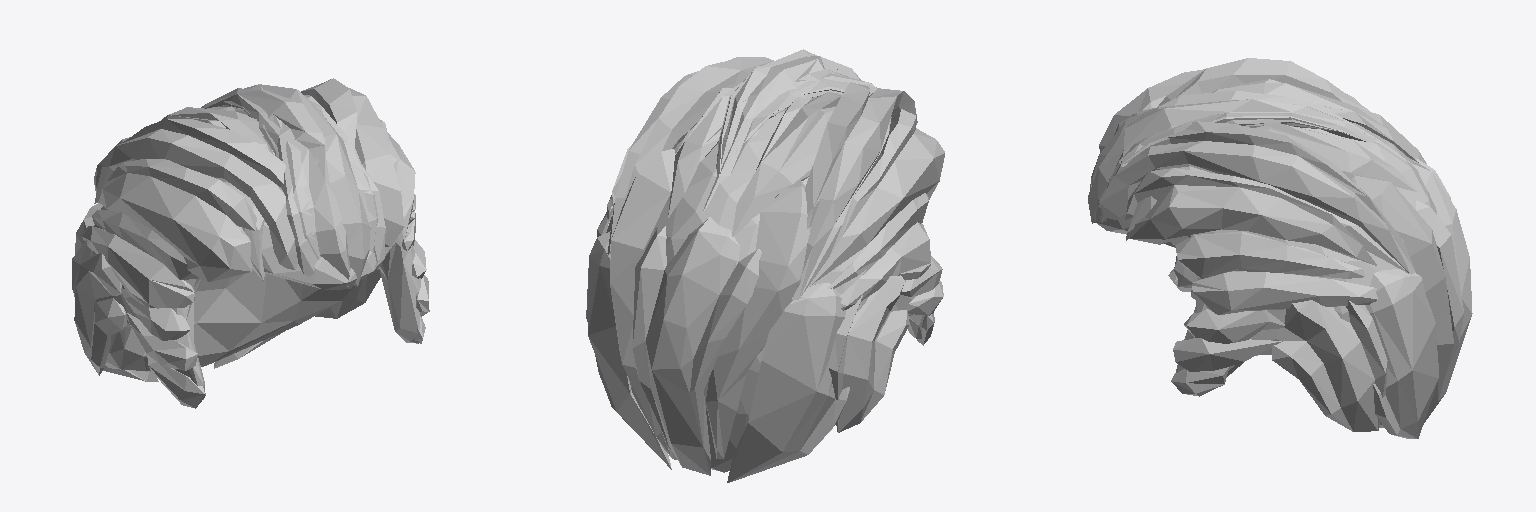
The model's file is Thug01_hair.OBJ.
3 renders of one model, left to right at view 1: azimuth 30°, elevation 25°; view 2: azimuth 150°, elevation 25°; view 3: azimuth 270°, elevation 25°, orthographic.
Parts seen in each view (by area): view 1: Group54262; view 2: Group54262; view 3: Group54262.
Boxes of the visible parts, x1,y1,x2,y2 form: Group54262: [72, 78, 429, 408]; Group54262: [586, 49, 944, 482]; Group54262: [1088, 58, 1472, 438].
Bounding box in the file's own units: 1.81 × 2.01 × 2.06.